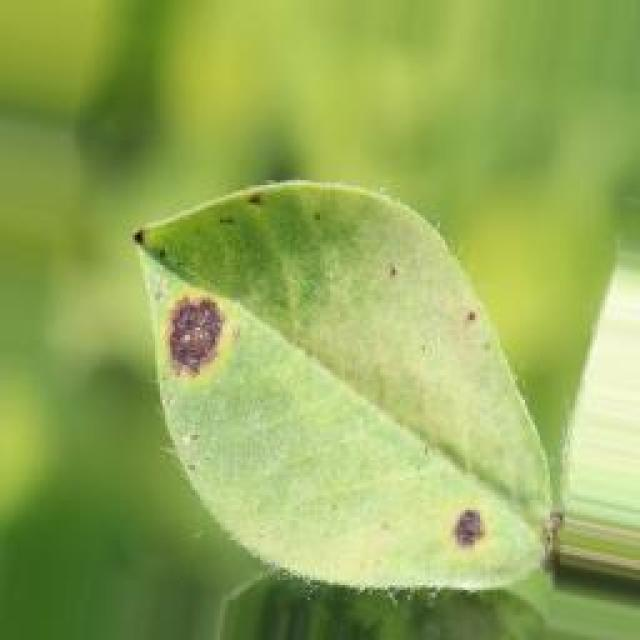Yellowish: (86, 180, 565, 591)
